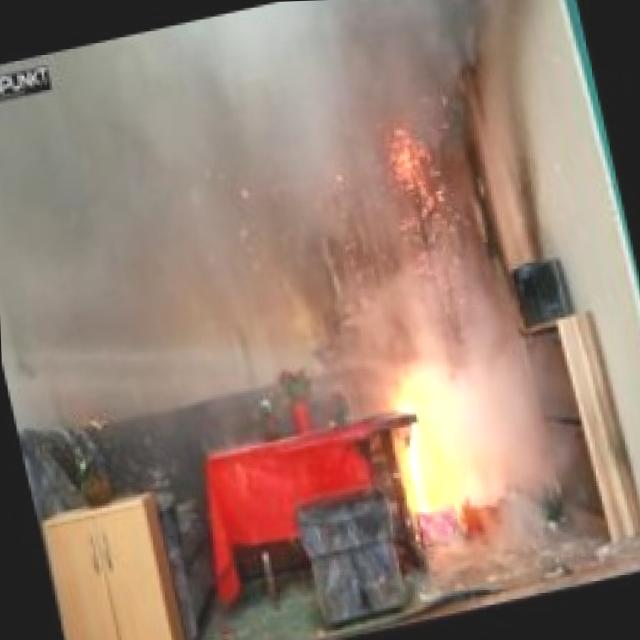fire: (348, 347, 503, 534)
smoke: (124, 0, 497, 391)
